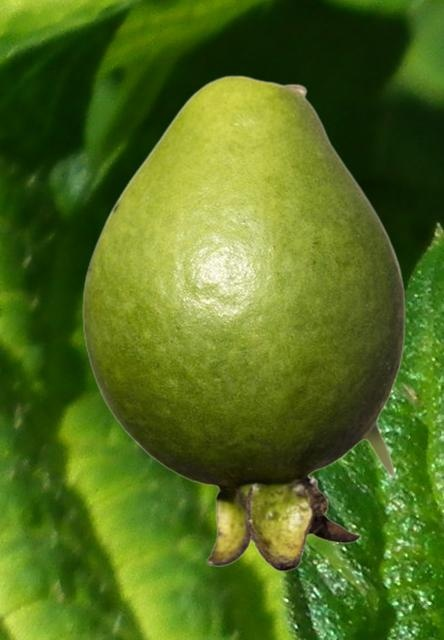guava: (82, 74, 404, 571)
